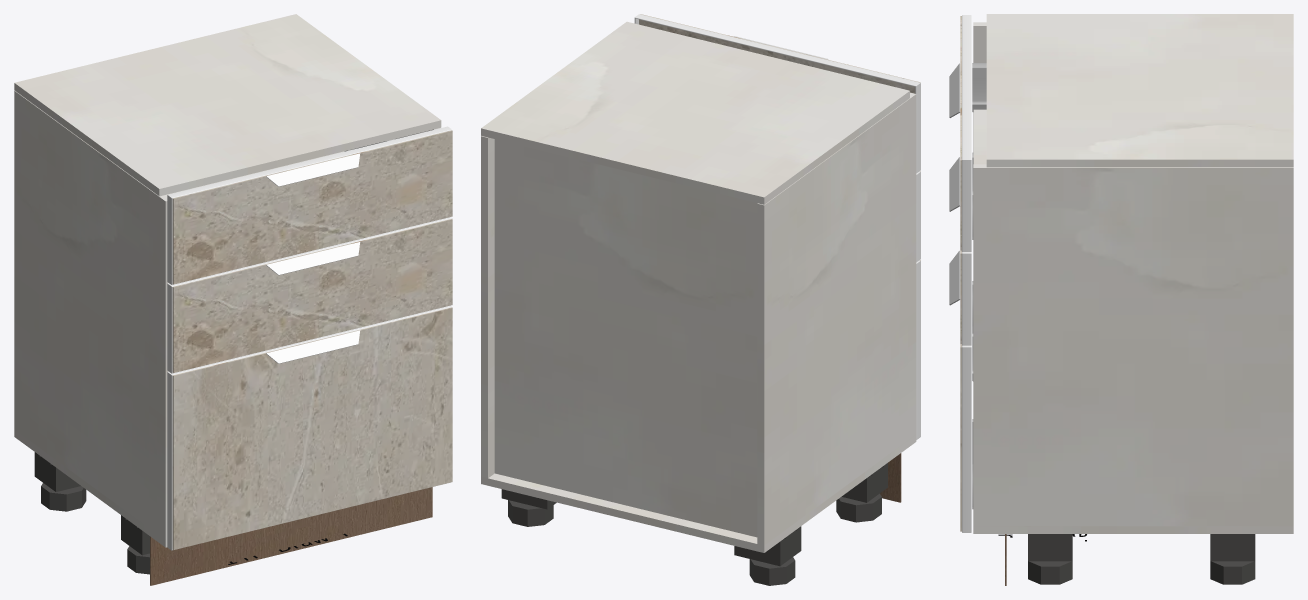
3 views of the same model, side by side, from view 1: azimuth 30°, elevation 25°; view 2: azimuth 150°, elevation 25°; view 3: azimuth 270°, elevation 25° (orthographic). The views are drawn at different scales.
Size of what is drawn, in the model's own units: 0.6 by 0.82 by 0.6.
7 materials, 3 textured.
